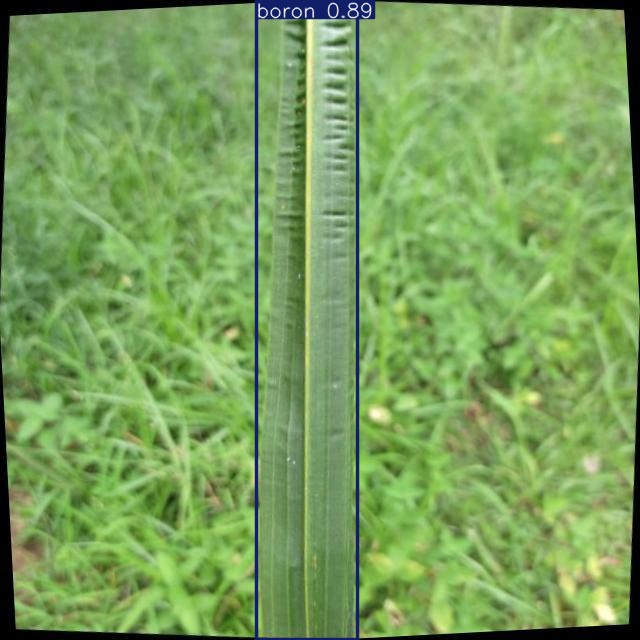nitrogen: (257, 0, 357, 639)
